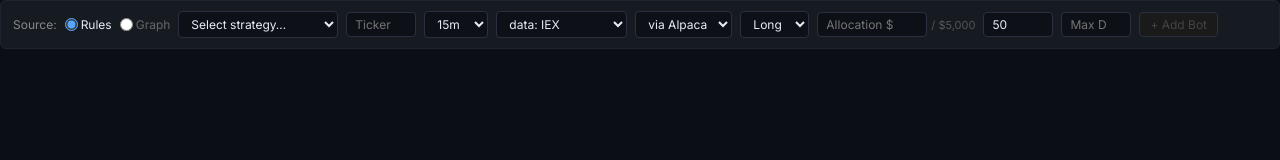
Test: AddBotBar graph picker › on a failed list: disabled select, Retry refetches
Click the radio button labelled "Graph" at [126, 24], box [120,18,133,31]
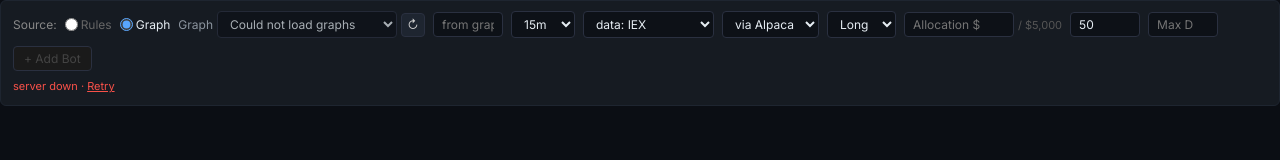
Expected: the dropdown with test id "addbot-graph-select" is disabled, [217,11,397,38]
Expected: the element with test id "addbot-graph-help" reads "server down · Retry", [13,79,115,93]
Click the button "Retry" at [101, 86], box [87,79,114,93]
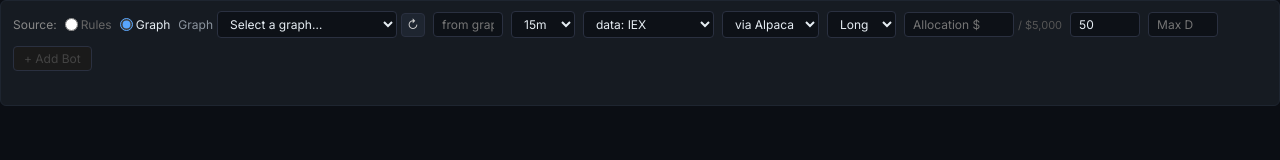
Expected: the dropdown with test id "addbot-graph-select" is enabled, [217,11,397,38]
